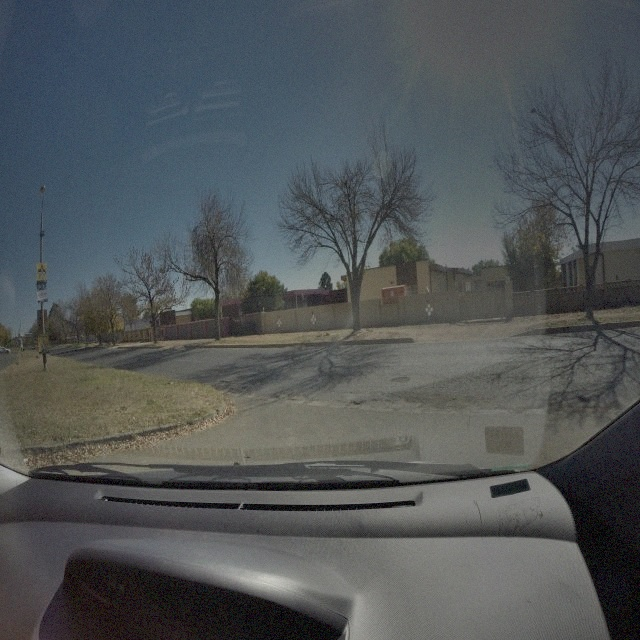pothole: (389, 376, 411, 384), (349, 398, 364, 408)
